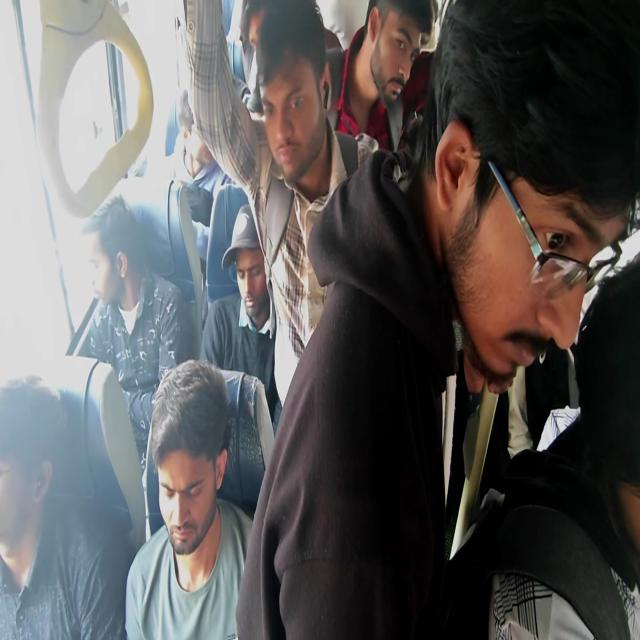person: (452, 43, 608, 390), (255, 15, 376, 340), (155, 407, 301, 610), (86, 200, 180, 392), (0, 376, 67, 640), (226, 218, 300, 374), (361, 9, 449, 140), (175, 96, 237, 208), (232, 16, 278, 75)
